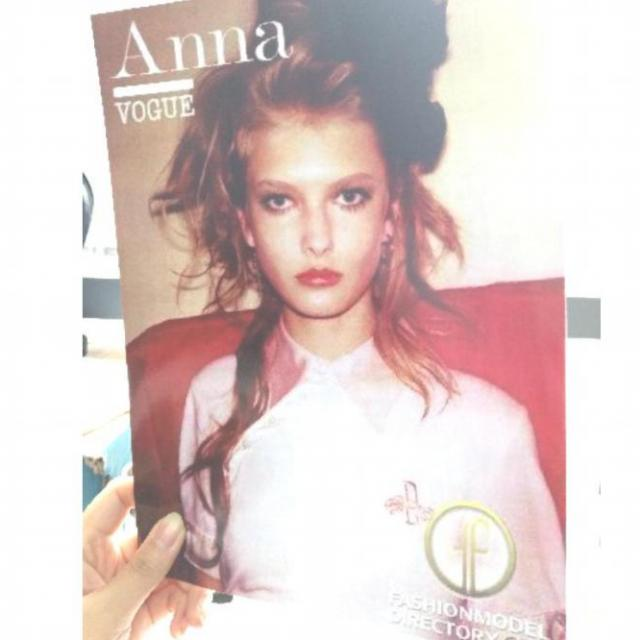photo: (90, 0, 597, 640)
